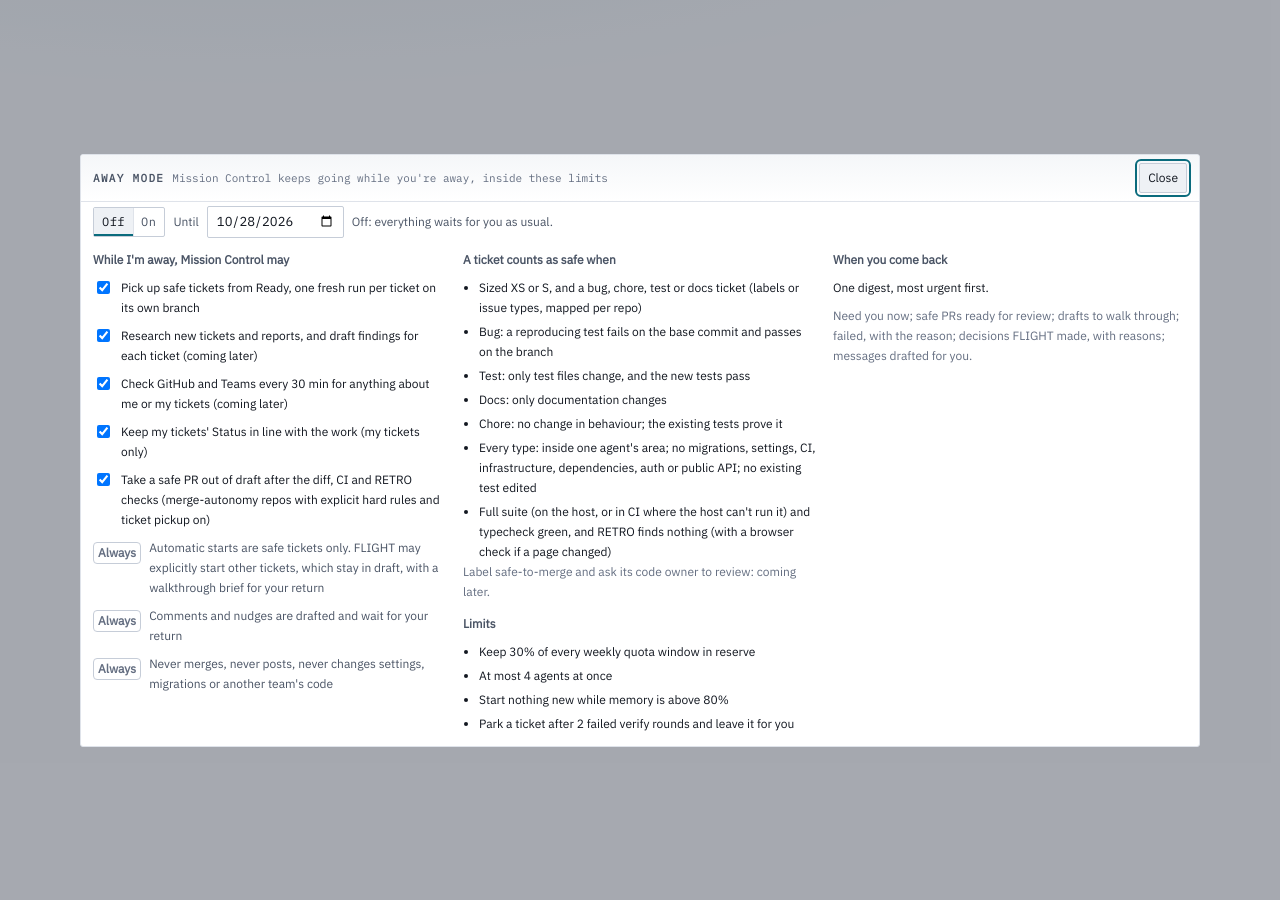
Test: AwayModal › turning On keeps a date that is already set
Click the button "On": (149, 222) [133, 208, 164, 236]
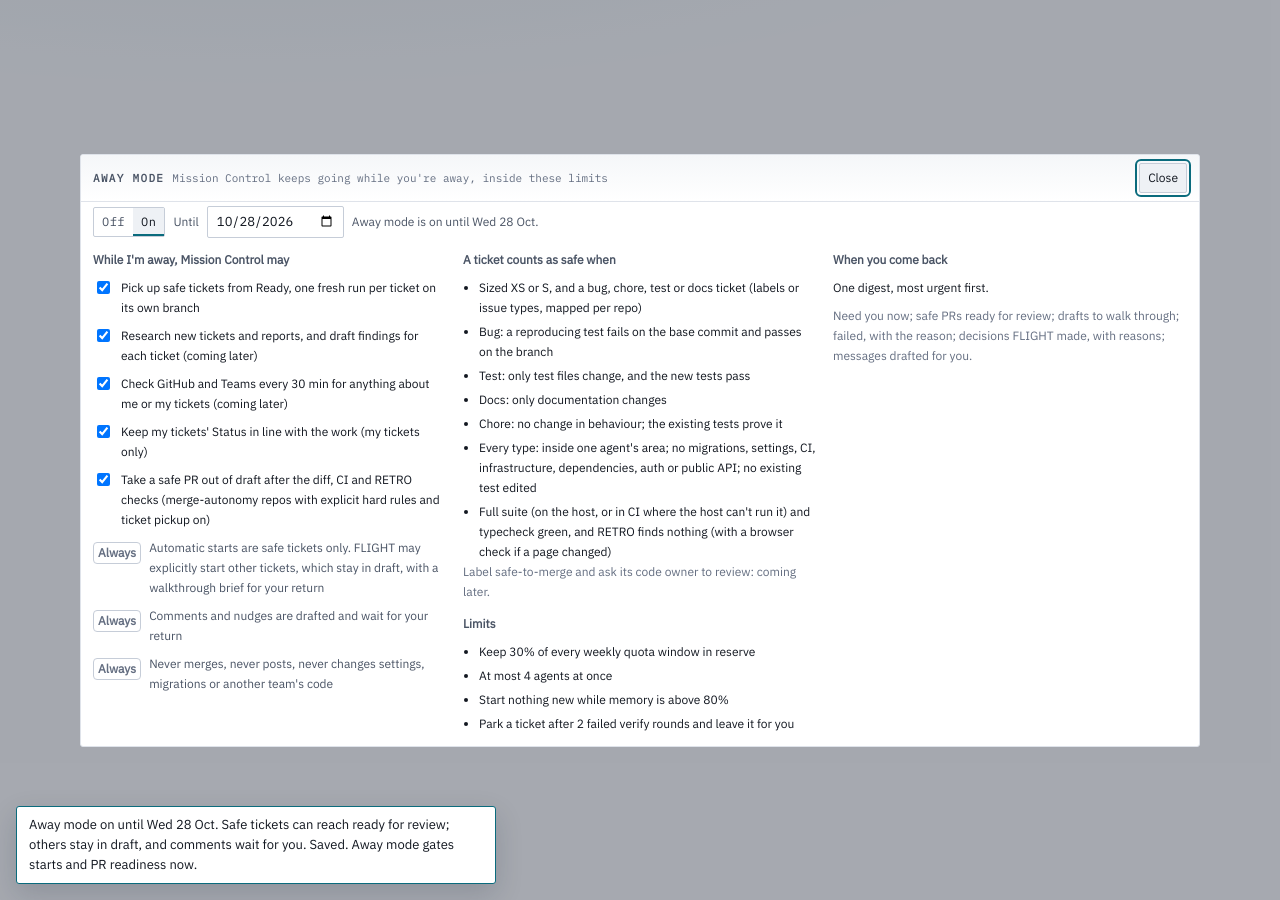
Check: the message with id "toast" shows "Away mode on until Wed 28 Oct.", box [29, 816, 454, 873]
